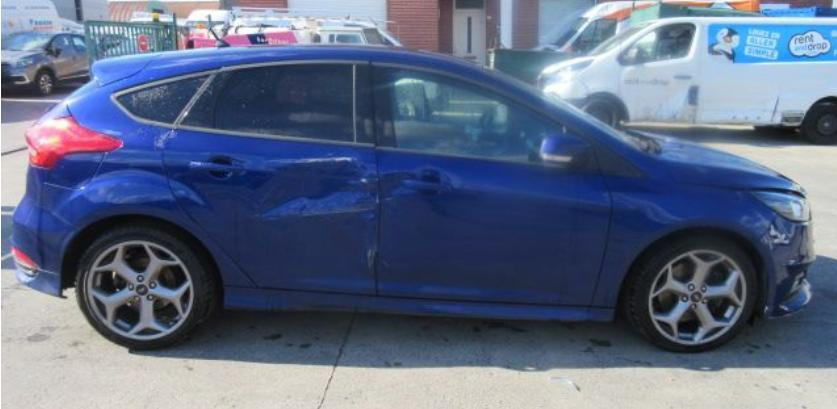Back-bumper: (14, 165, 62, 299)
Back-door: (163, 61, 379, 294)
Back-wheel: (74, 218, 219, 350)
Back-window: (179, 62, 353, 140), (118, 75, 209, 123)
Back-windshield: (42, 83, 97, 119)
Fender: (594, 178, 774, 306)
Front-bumper: (755, 216, 816, 318)
Front-door: (370, 64, 612, 306)
Front-wheel: (623, 230, 762, 353)
Front-window: (390, 70, 566, 162)
Headlight: (753, 190, 811, 221)
Hood: (628, 130, 806, 194)
Mirror: (528, 132, 591, 171)
Quarter-panel: (40, 120, 256, 286)
Rocker-panel: (224, 287, 612, 321)
Roof: (141, 45, 484, 83)
Tail-light: (25, 116, 120, 167)
Trunk: (40, 52, 155, 119)
Windshield: (486, 66, 647, 153)
